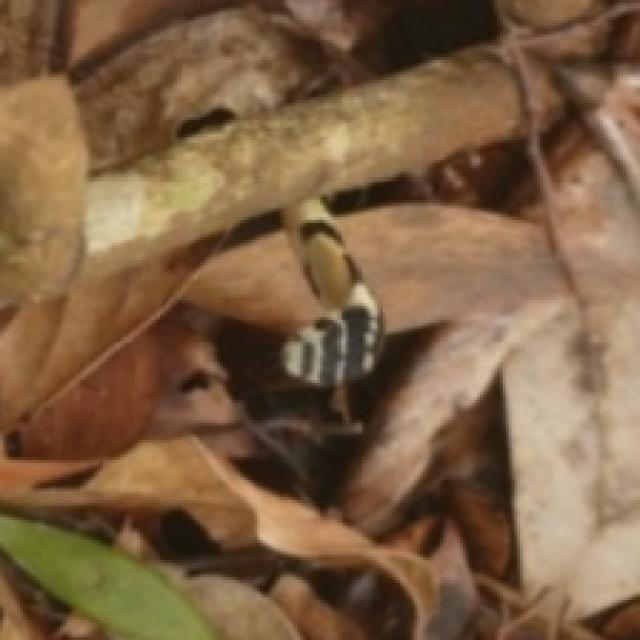king cobra: (282, 198, 382, 387)
